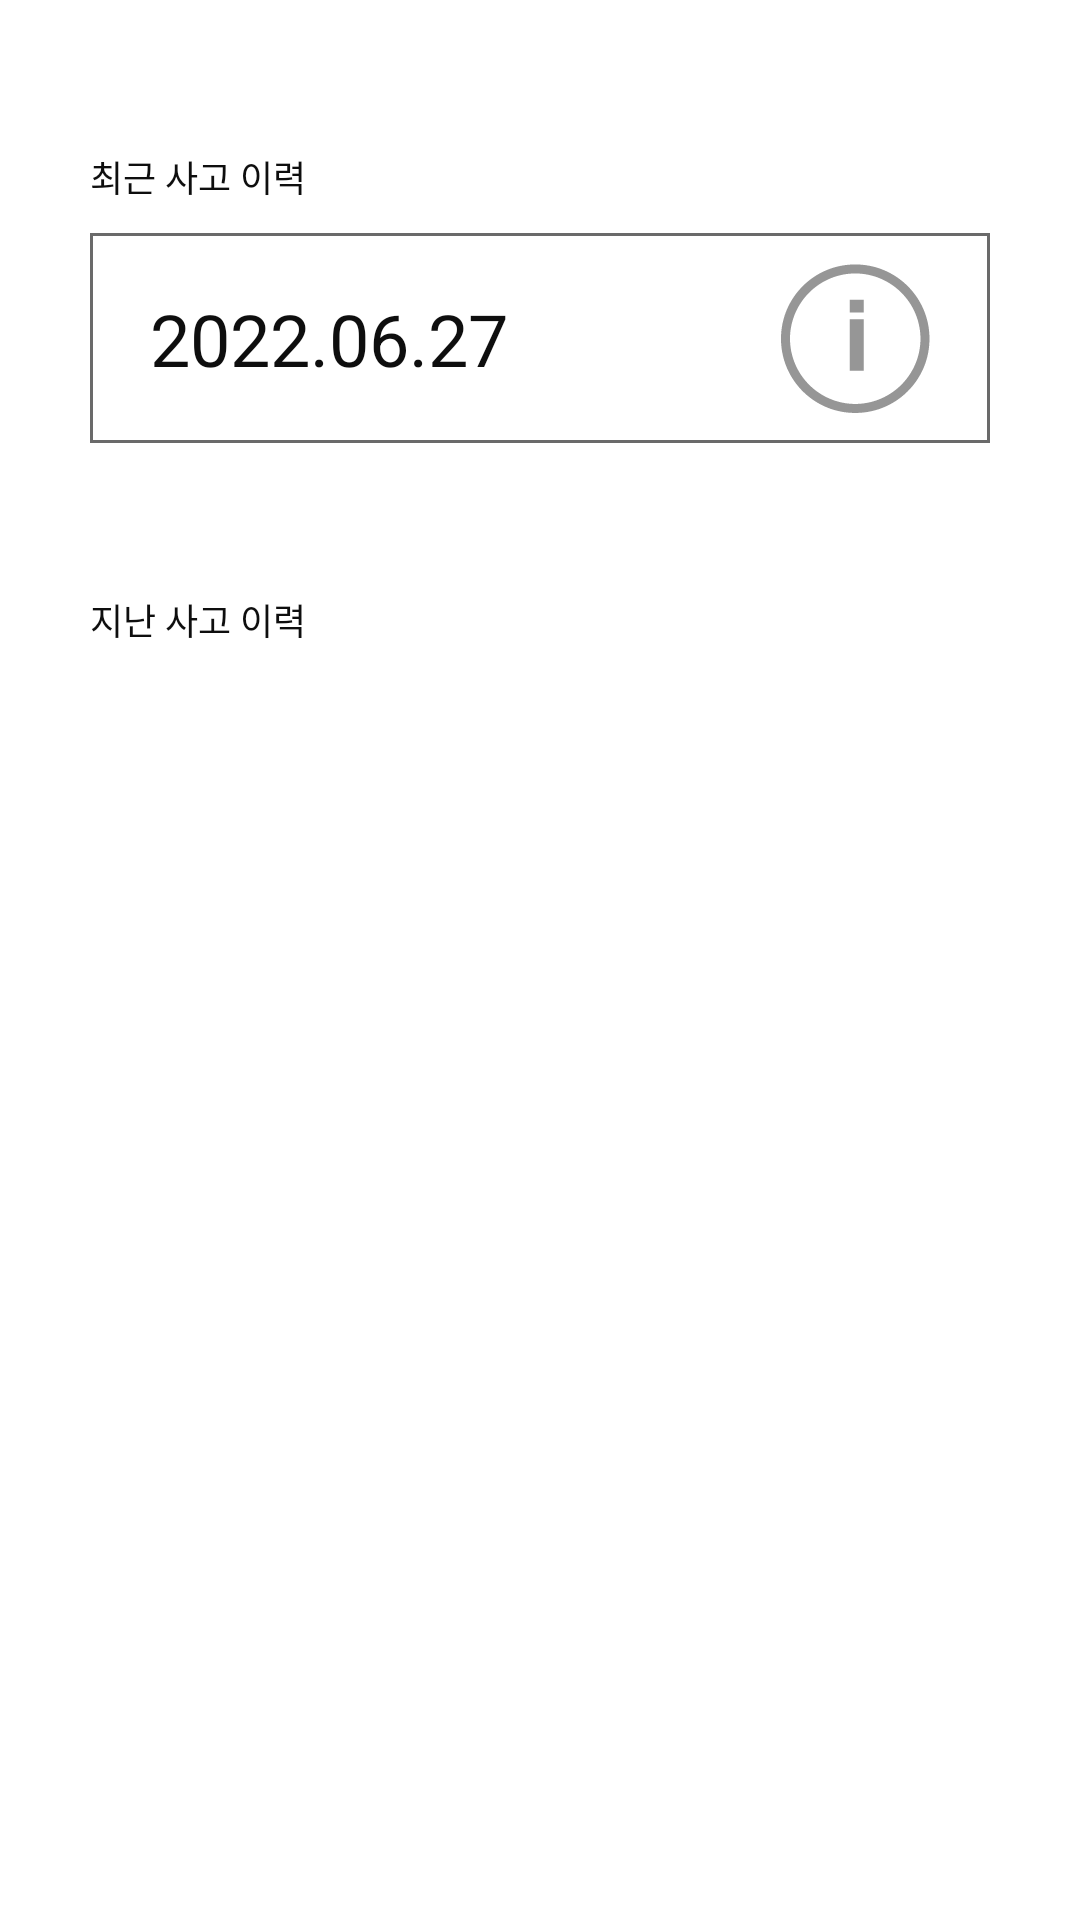

Where icons sit on this 1080 × 1920 app screen, as (x1=x1, y1=y1, x2=x2, y2=y2):
more info: (x1=781, y1=264, x2=930, y2=413)
